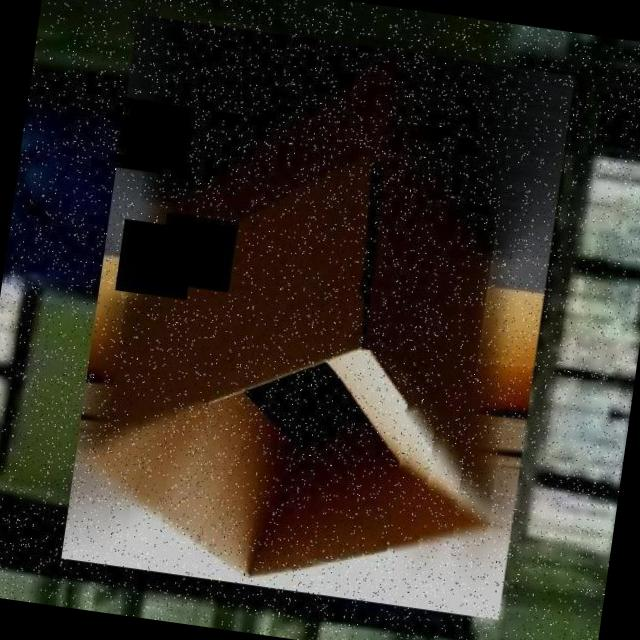box: (53, 4, 584, 630)
